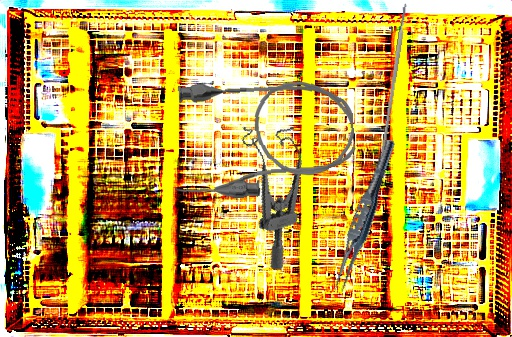Cannula: (168, 73, 358, 203)
Scalpel Handle: (378, 1, 410, 159)
Speculum: (228, 110, 334, 274)
Tissue Forceps: (328, 136, 400, 296)
